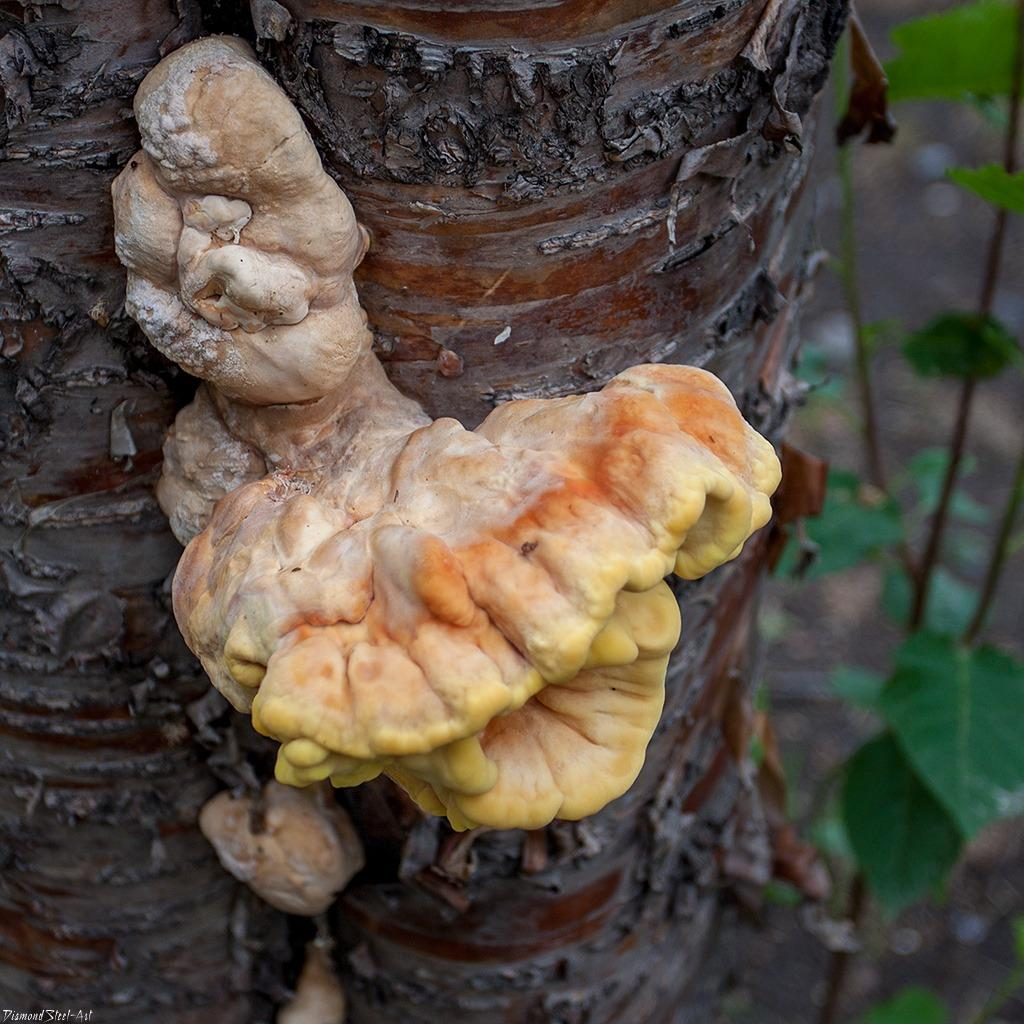Sulphur-yellow tinder fungus: (44, 27, 805, 944)
